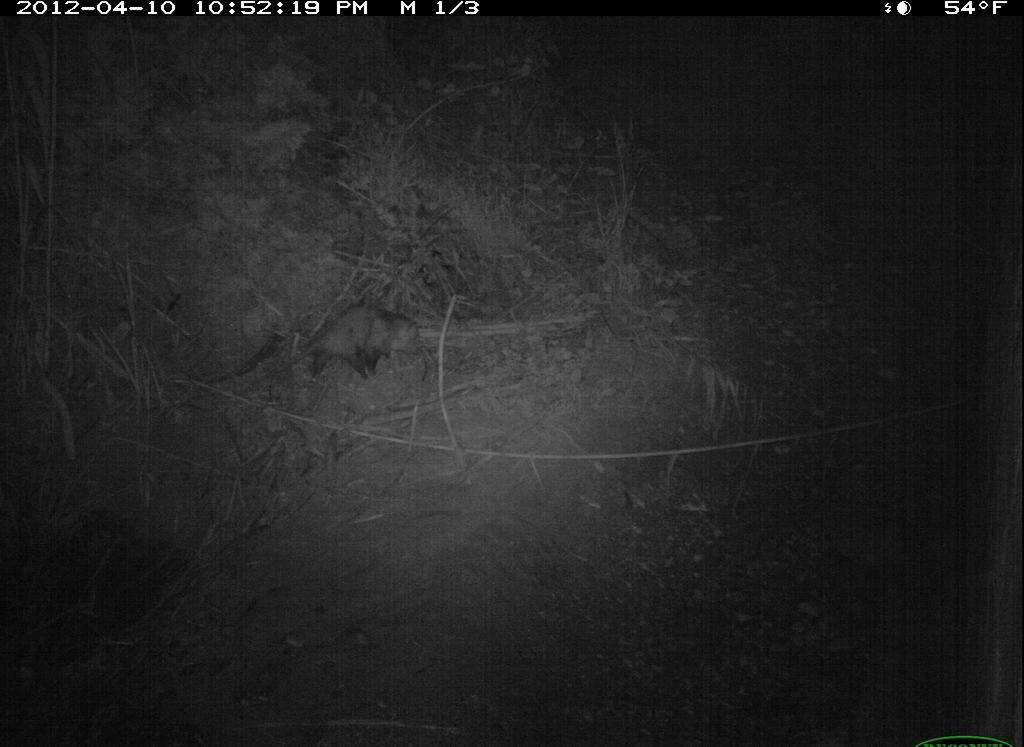opossum: (295, 297, 434, 395)
